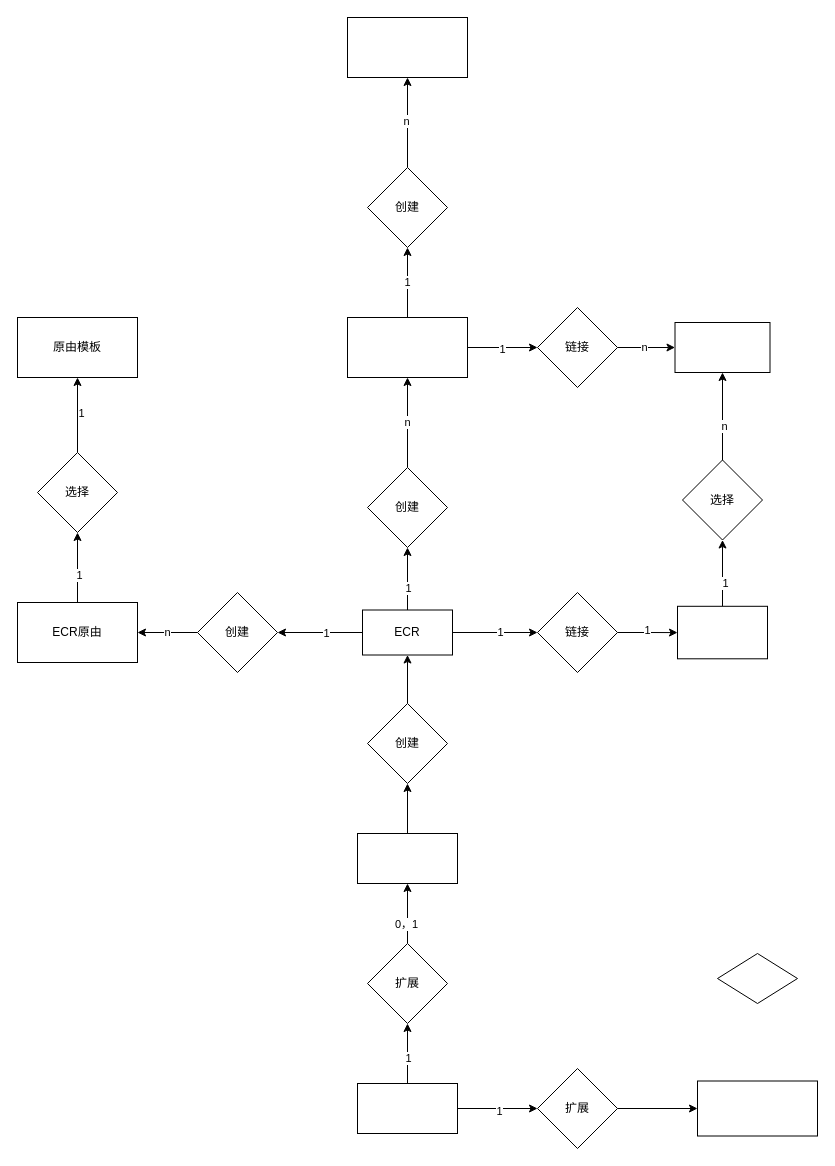
The diagram is 835 pixels wide and 1166 high, and some of its shapes have lost their labels. The box of each missing label's shape, as (x1, y1, x2, y2) in pixels:
Capital设计: (674, 322, 770, 372)
Capital项目: (676, 605, 768, 659)
ECO: (346, 316, 468, 378)
ECO属性: (346, 16, 468, 78)
用户: (356, 1082, 458, 1134)
系统管理员: (696, 1080, 818, 1136)
负责人: (356, 832, 458, 884)
